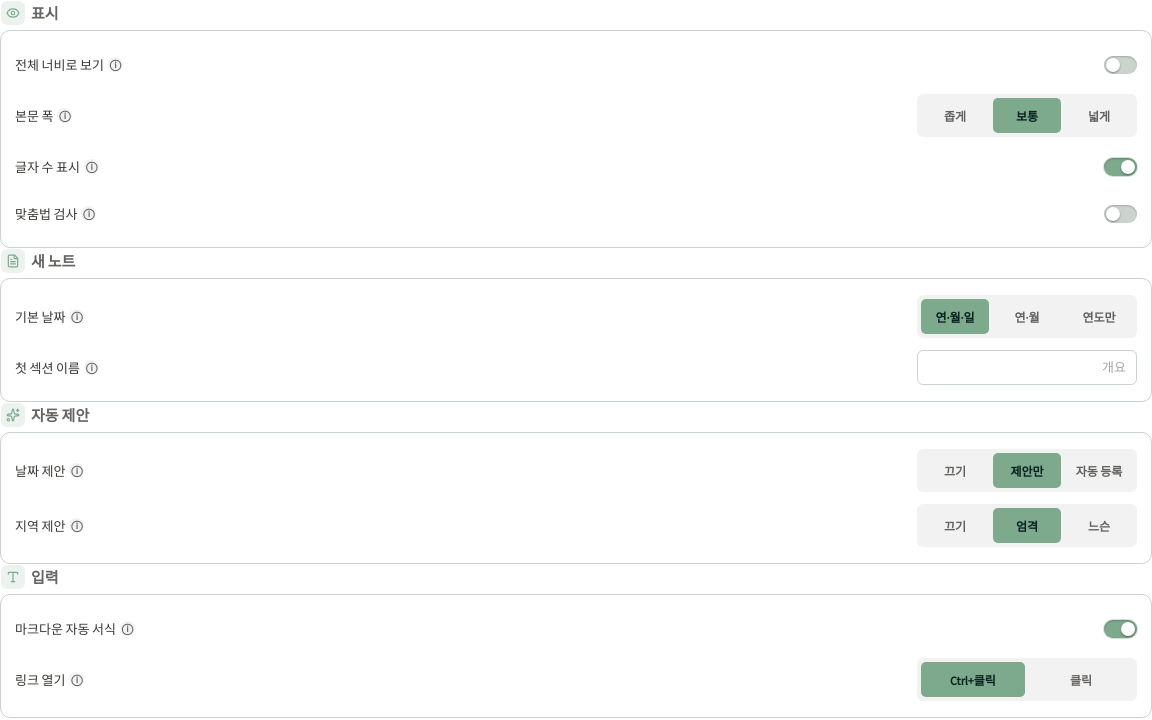
it: EditorSection — 에디터 (2026-09-18 신설, 2026-09-20 3단 제안·붙여넣기·입력 확장 + 실험적 4종) › 첫 섹션 이름 입력이 blur/Enter 에서만 커밋되고 매 키 입력마다는 커밋하지 않으며, 40자로 잘리고, ×가 비운다
This screenshot has width=1152, height=720.
Type "할 일" into the field with placeholder "개요" at (1027, 368), box [917,350,1137,385]
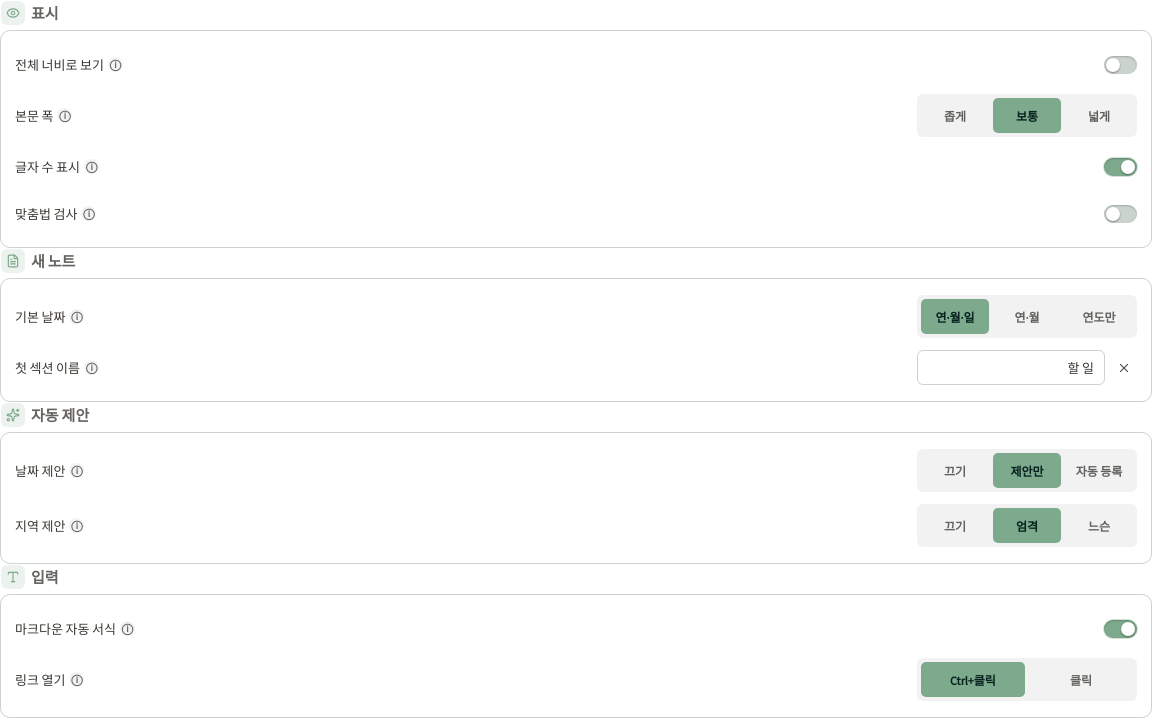
Leave the field named "첫 섹션 이름", box [917,350,1105,385]
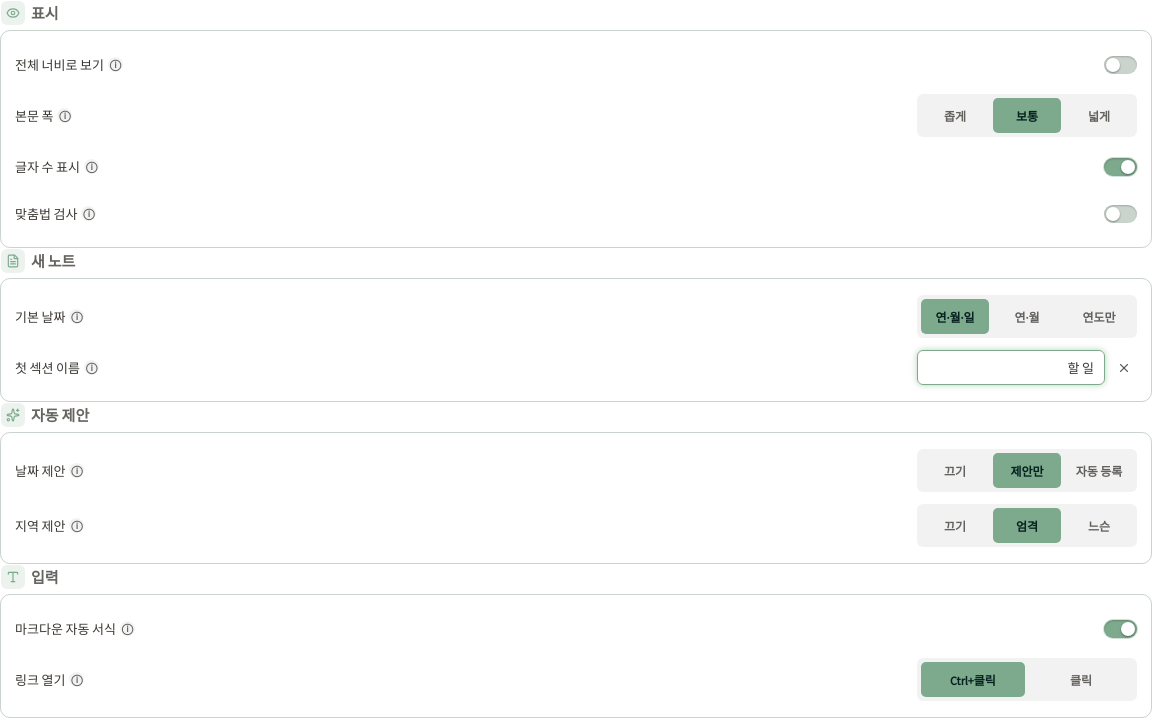
Replace the text in the field named "첫 섹션 이름" with "회의록" at (1011, 368), box [917,350,1105,385]
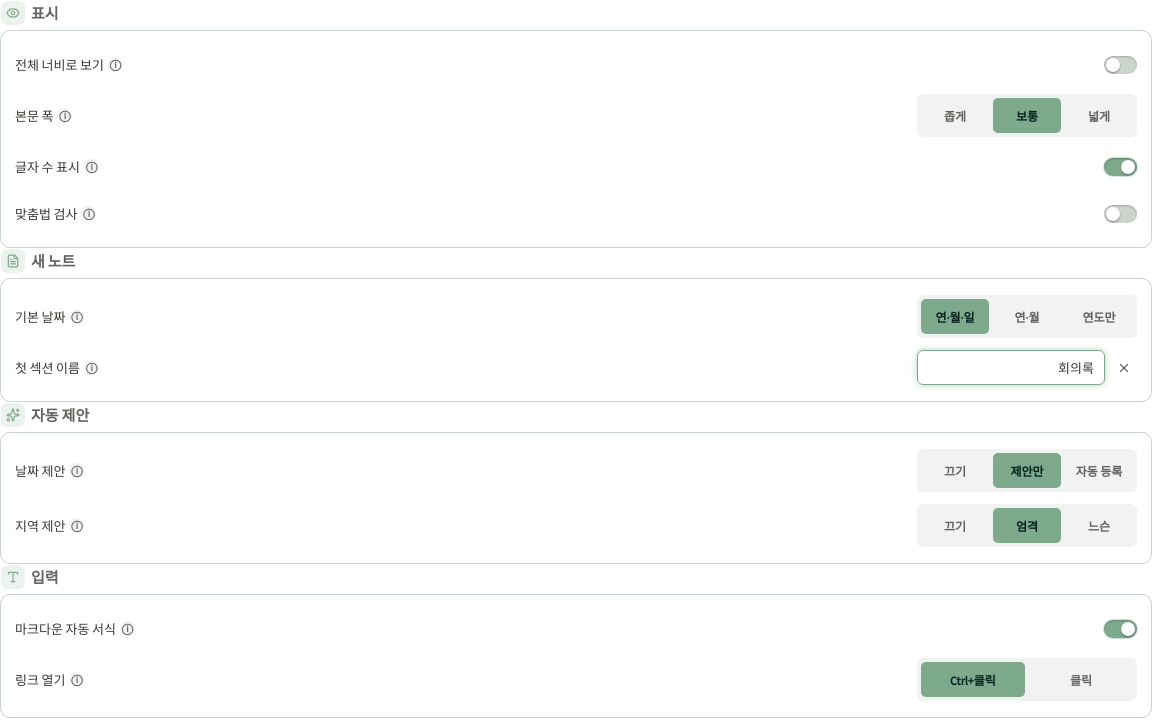
Press Enter in the field named "첫 섹션 이름", box [917,350,1105,385]
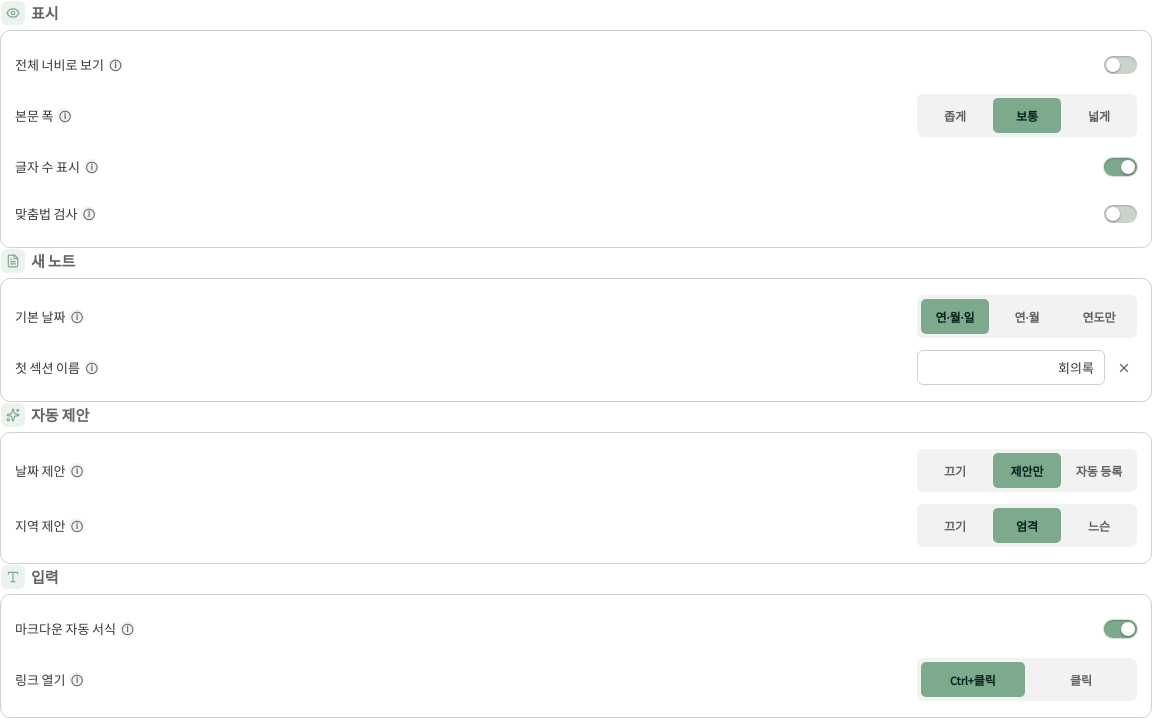
Click the button with test id "settings-new-note-section-name-clear" at (1124, 368), box [1111,354,1137,380]
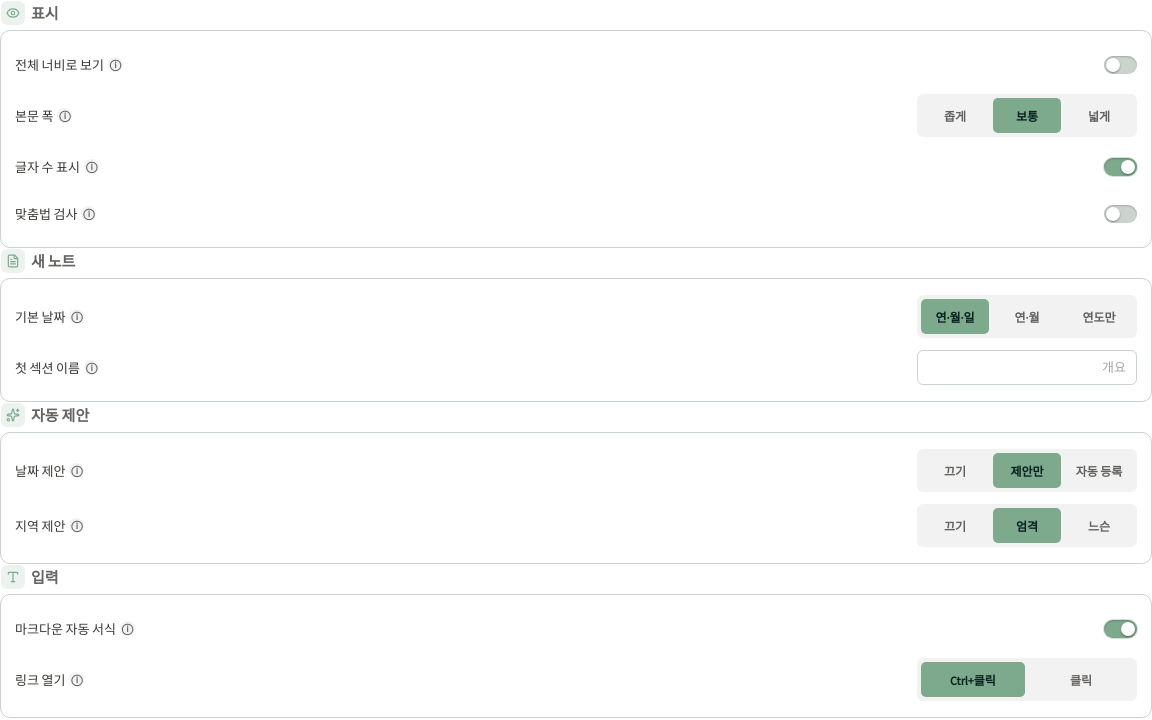
Result: the field with test id "settings-new-note-section-name-input" is empty at [917,350,1137,385]
